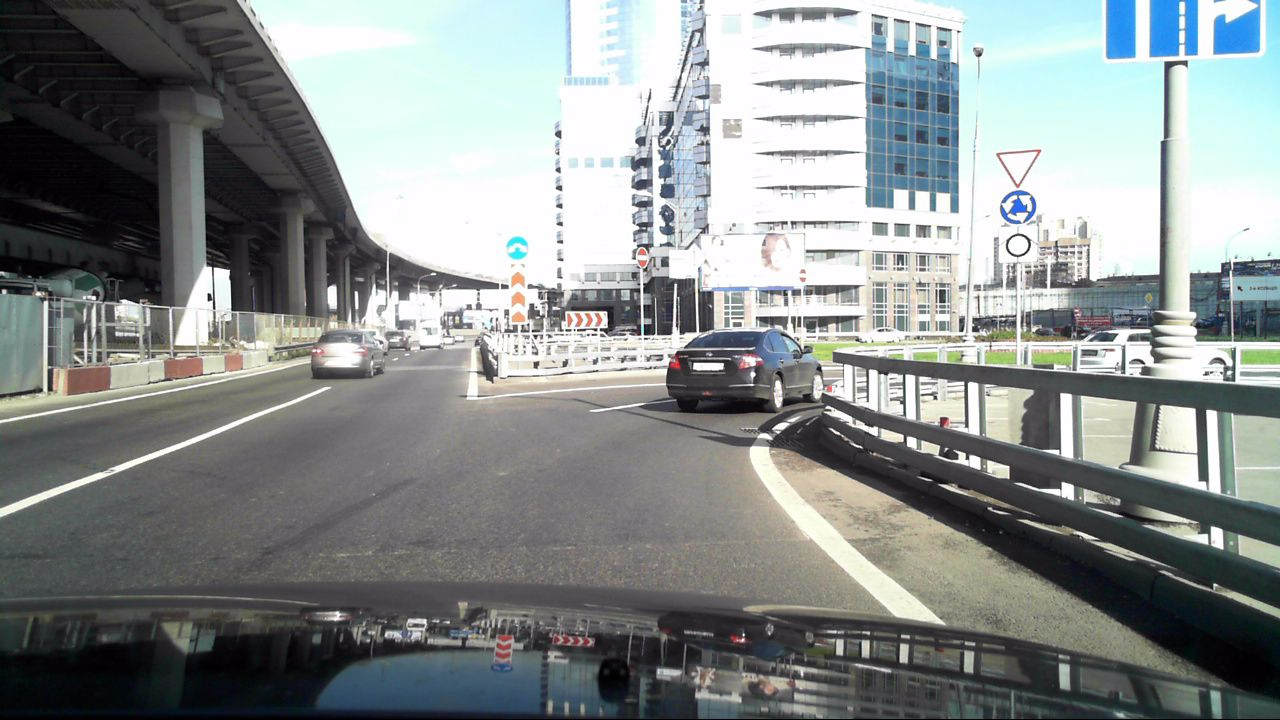Round-About: (1000, 188, 1037, 225)
